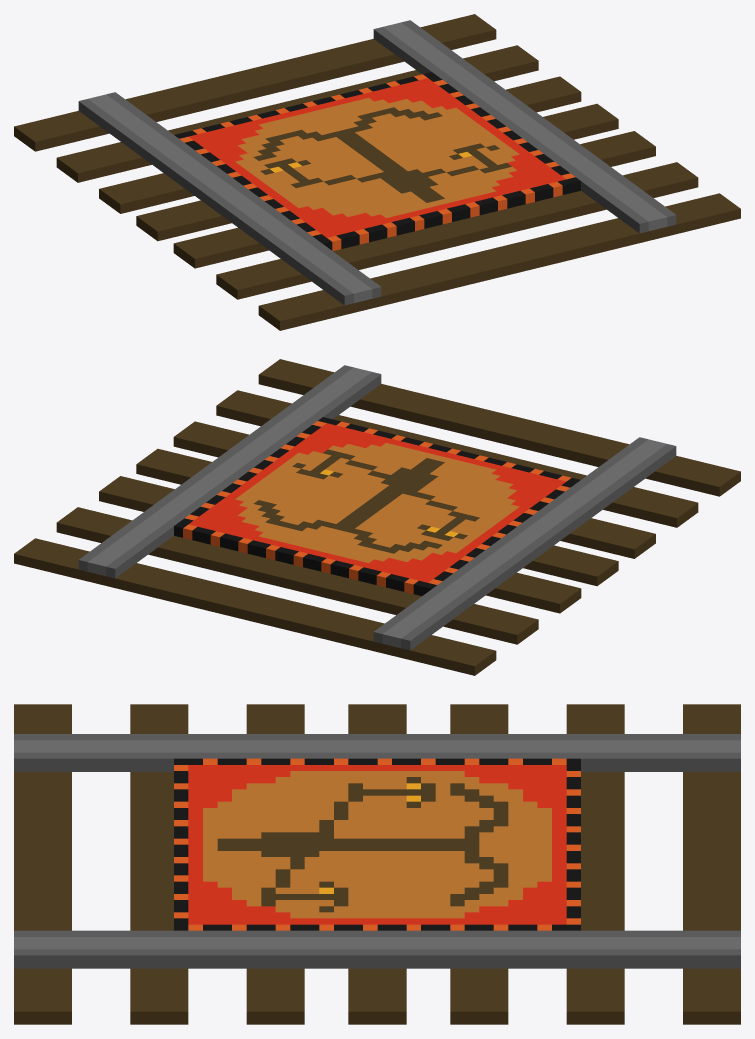
The model's file is rails with weighter.obj.
3 renders of one model, top to bottom at view 1: azimuth 30°, elevation 25°; view 2: azimuth 150°, elevation 25°; view 3: azimuth 270°, elevation 25°, orthographic. The views are drawn at different scales.
Bounding box in the file's own units: 5 × 0.2 × 5.
Materials: 1 (1 with a texture image).
